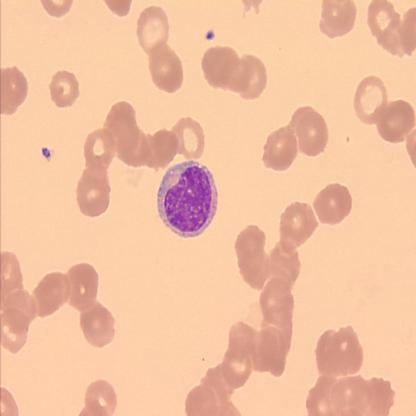Lymphocyte: (157, 159, 218, 237)
